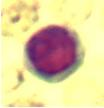lymphocyte: (18, 23, 87, 84)
